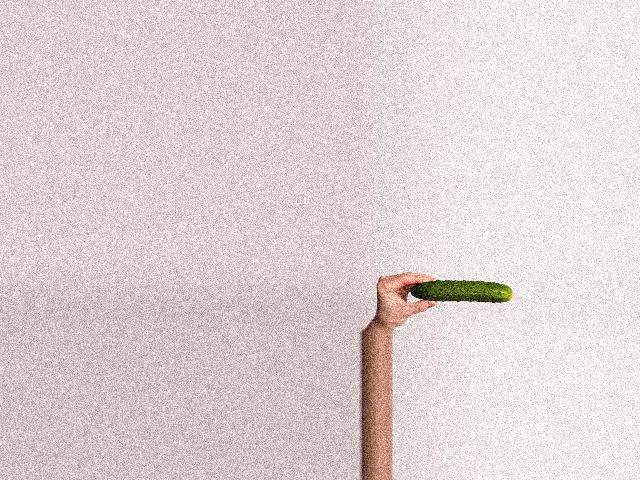cucumber: (410, 280, 511, 301)
